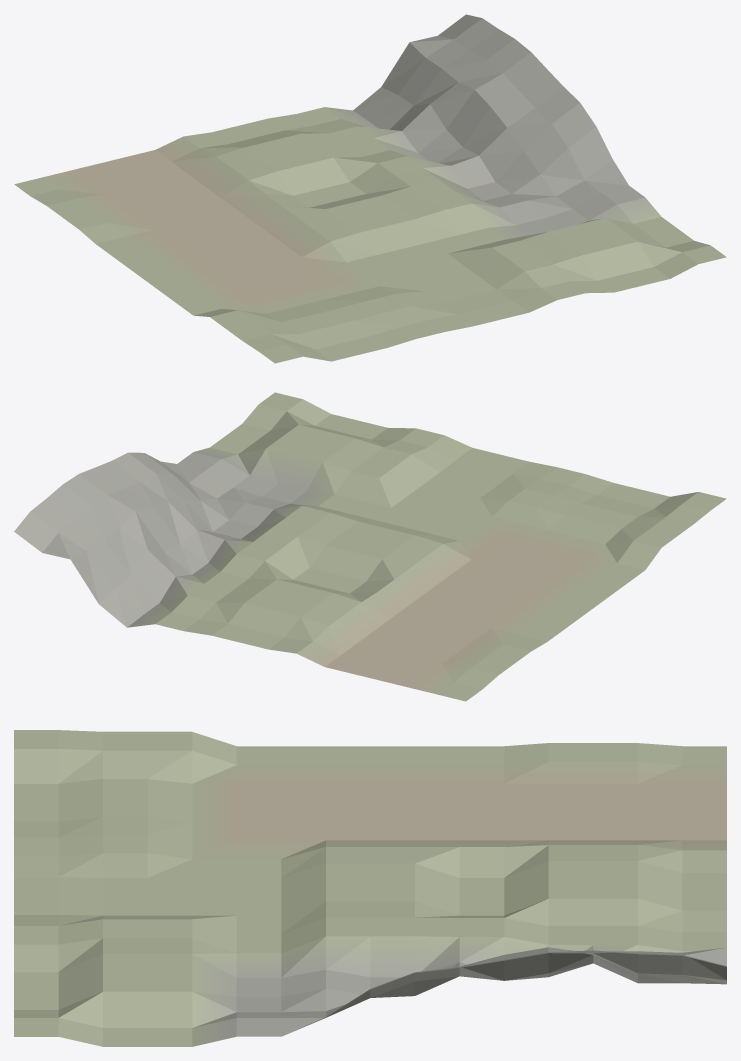
3 views of the same model, one above another, from view 1: azimuth 30°, elevation 25°; view 2: azimuth 150°, elevation 25°; view 3: azimuth 270°, elevation 25° (orthographic). The views are drawn at different scales.
Bounding box in the file's own units: 32 × 5.41 × 32.
